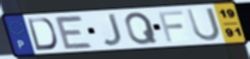D: (26, 17, 59, 52)
E: (53, 15, 95, 50)
F: (157, 9, 186, 43)
J: (101, 12, 124, 47)
Q: (124, 11, 160, 46)
U: (185, 6, 223, 43)
